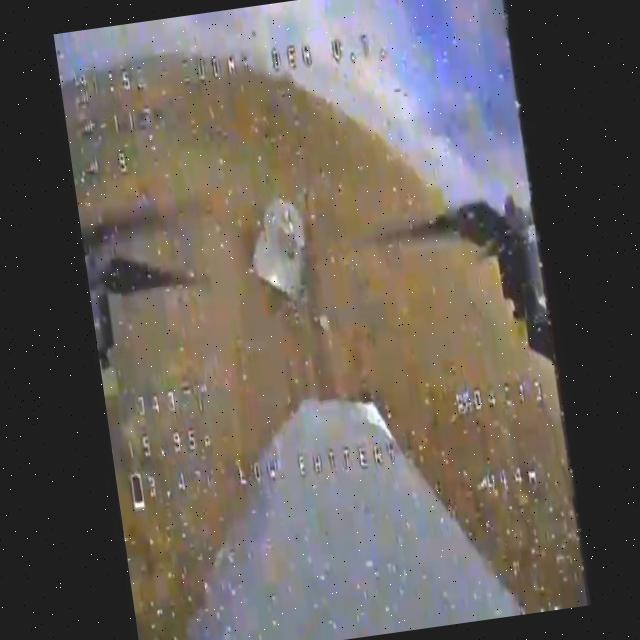AIFV: (244, 196, 314, 304)
